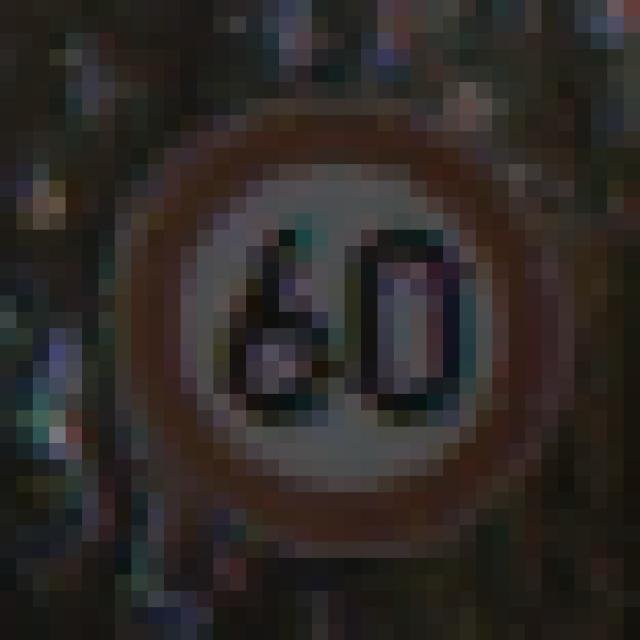Ograniczenie predkosci do 60: (120, 109, 548, 544)
